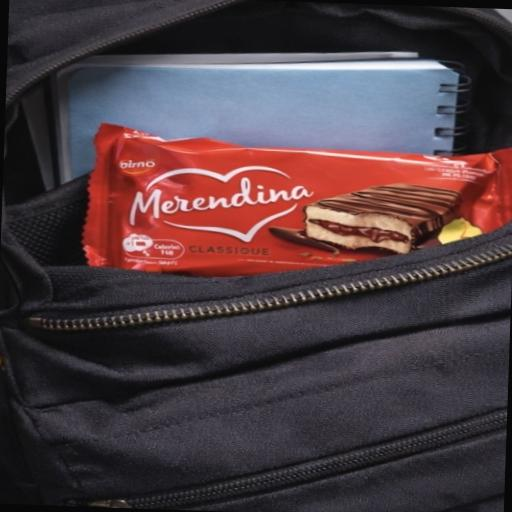merendina: (59, 93, 512, 328)
